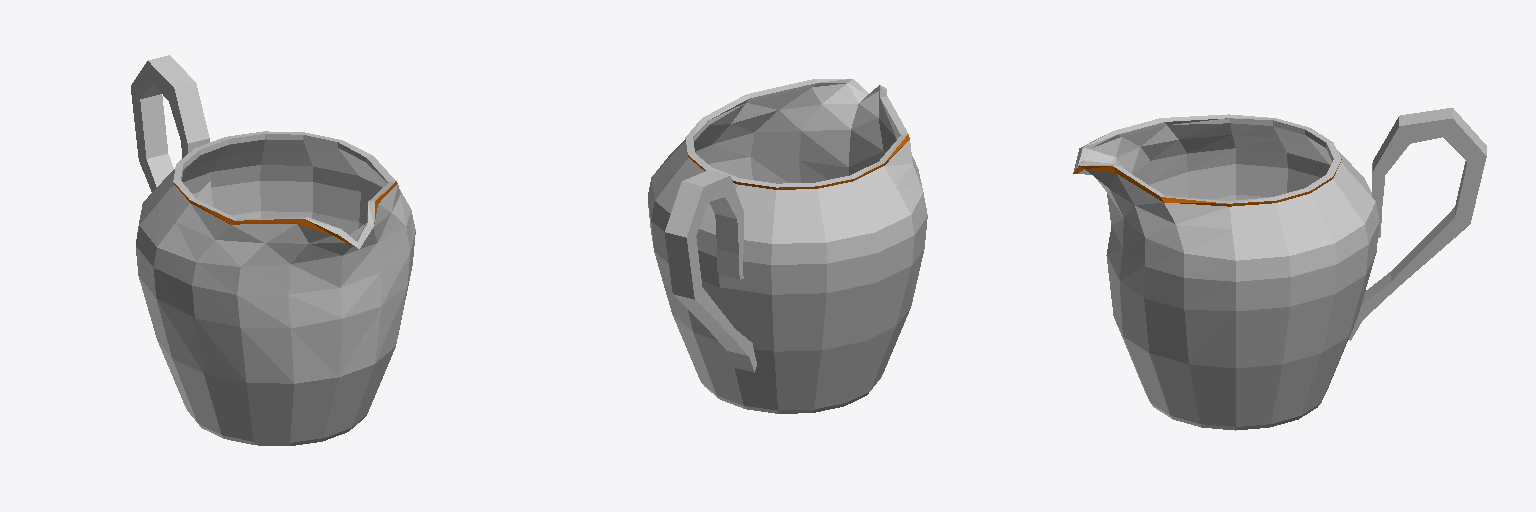
The model's file is milk_mug.obj.
3 renders of one model, left to right at view 1: azimuth 30°, elevation 25°; view 2: azimuth 150°, elevation 25°; view 3: azimuth 270°, elevation 25°, orthographic.
Visible parts, largest first — view 1: mug_Plane.002; view 2: mug_Plane.002; view 3: mug_Plane.002.
Part boxes in pixels (left/top/right/bottom): mug_Plane.002: left=131, top=55, right=415, bottom=445; mug_Plane.002: left=648, top=79, right=927, bottom=413; mug_Plane.002: left=1073, top=108, right=1486, bottom=430.
Size of the model in its own units: 0.113 by 0.1193 by 0.1625.